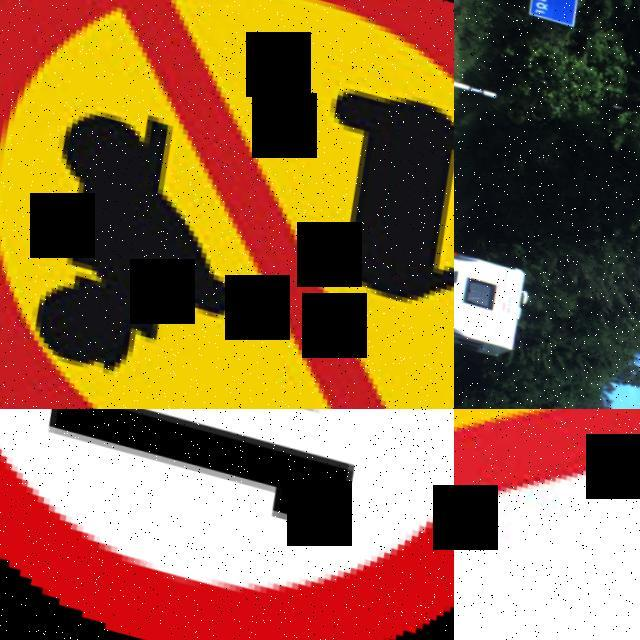166: (454, 409, 640, 640)
5: (522, 0, 584, 28)
No entry for motor vehicles: (0, 0, 454, 409)
speed limit-110: (0, 409, 454, 640)
